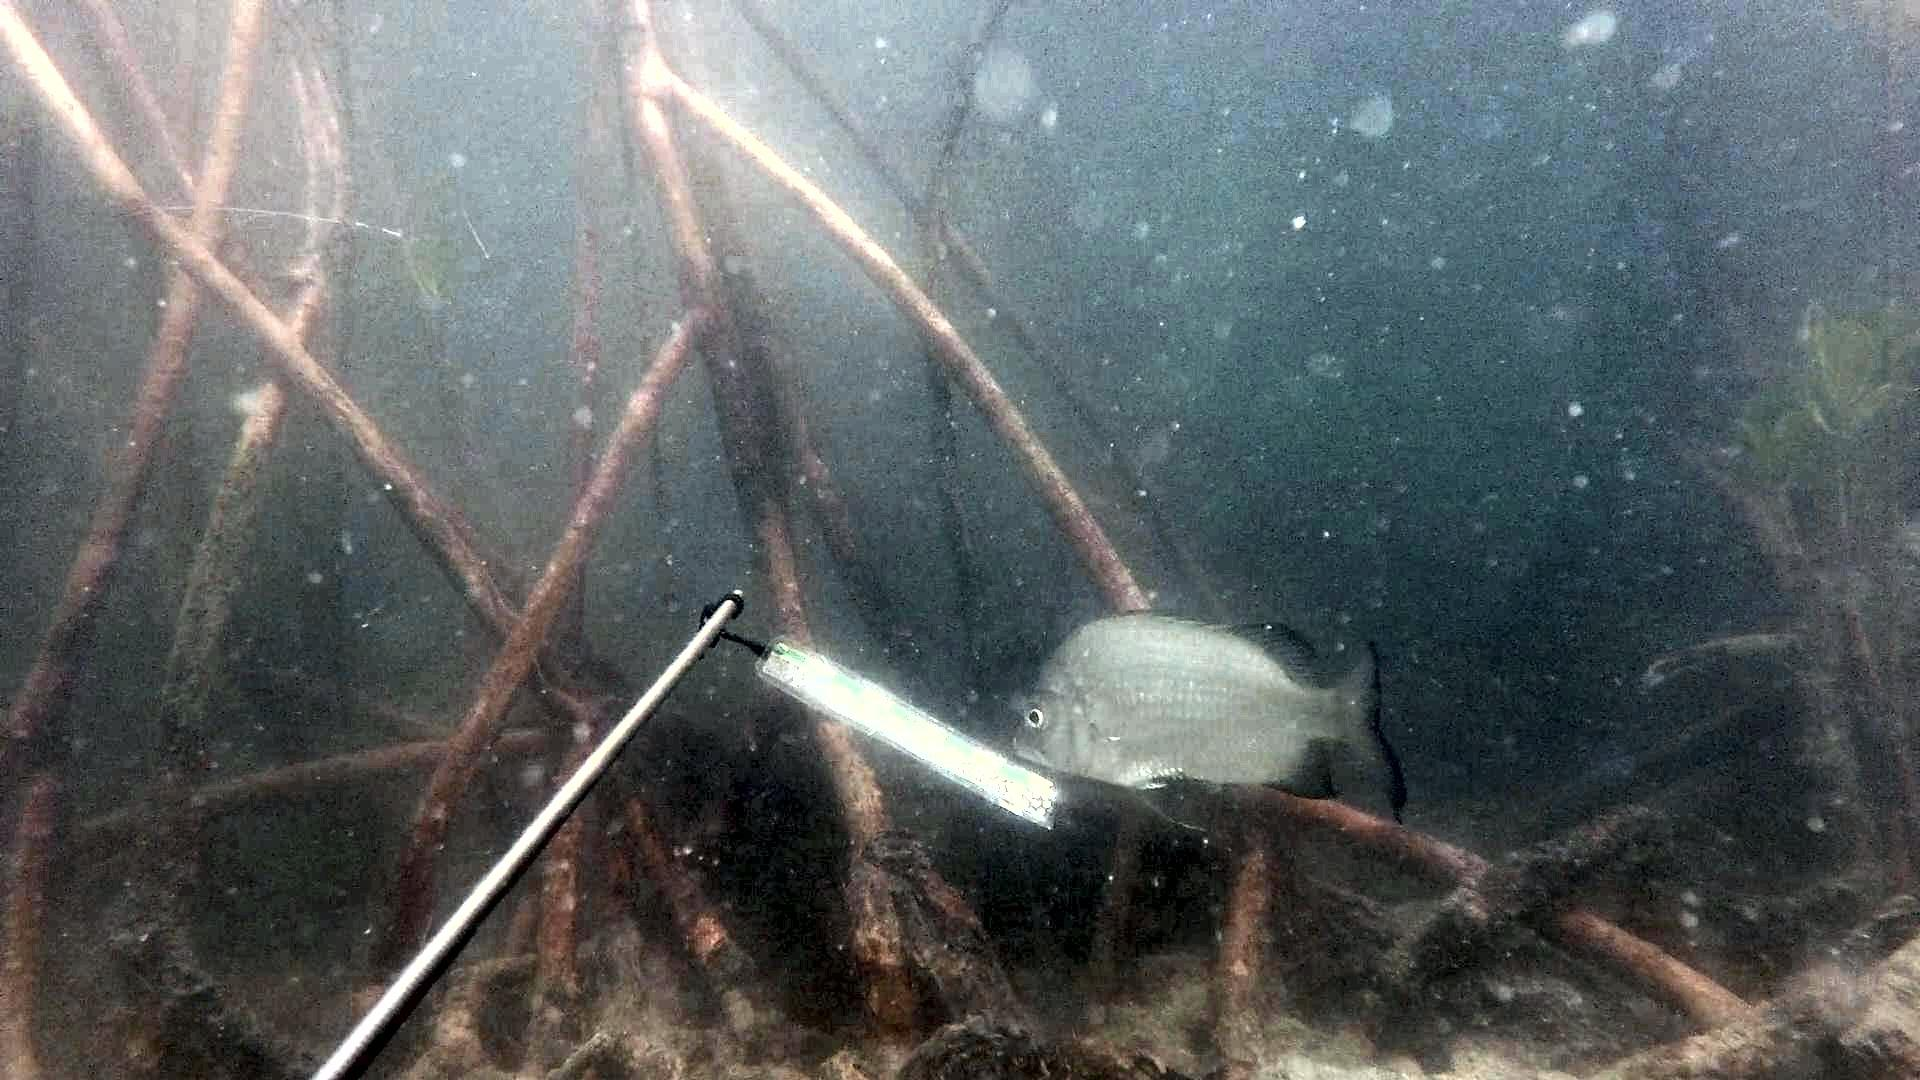acanthopagrus palmaris: (1004, 603, 1420, 843)
